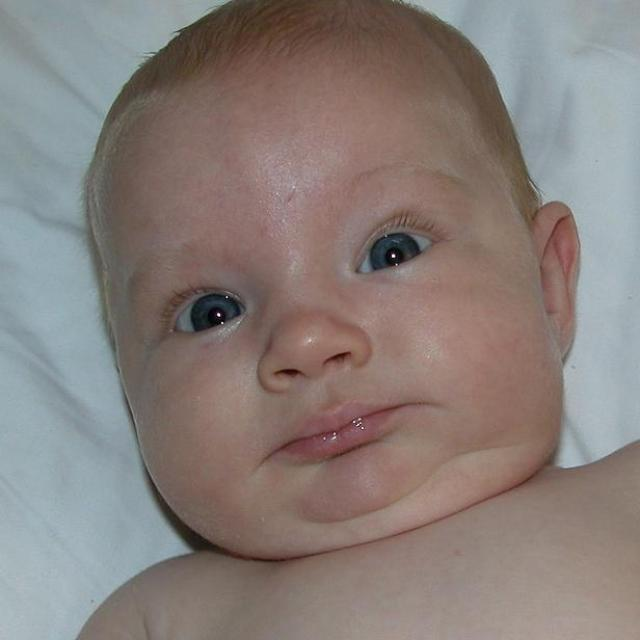surprised: (104, 57, 545, 555)
